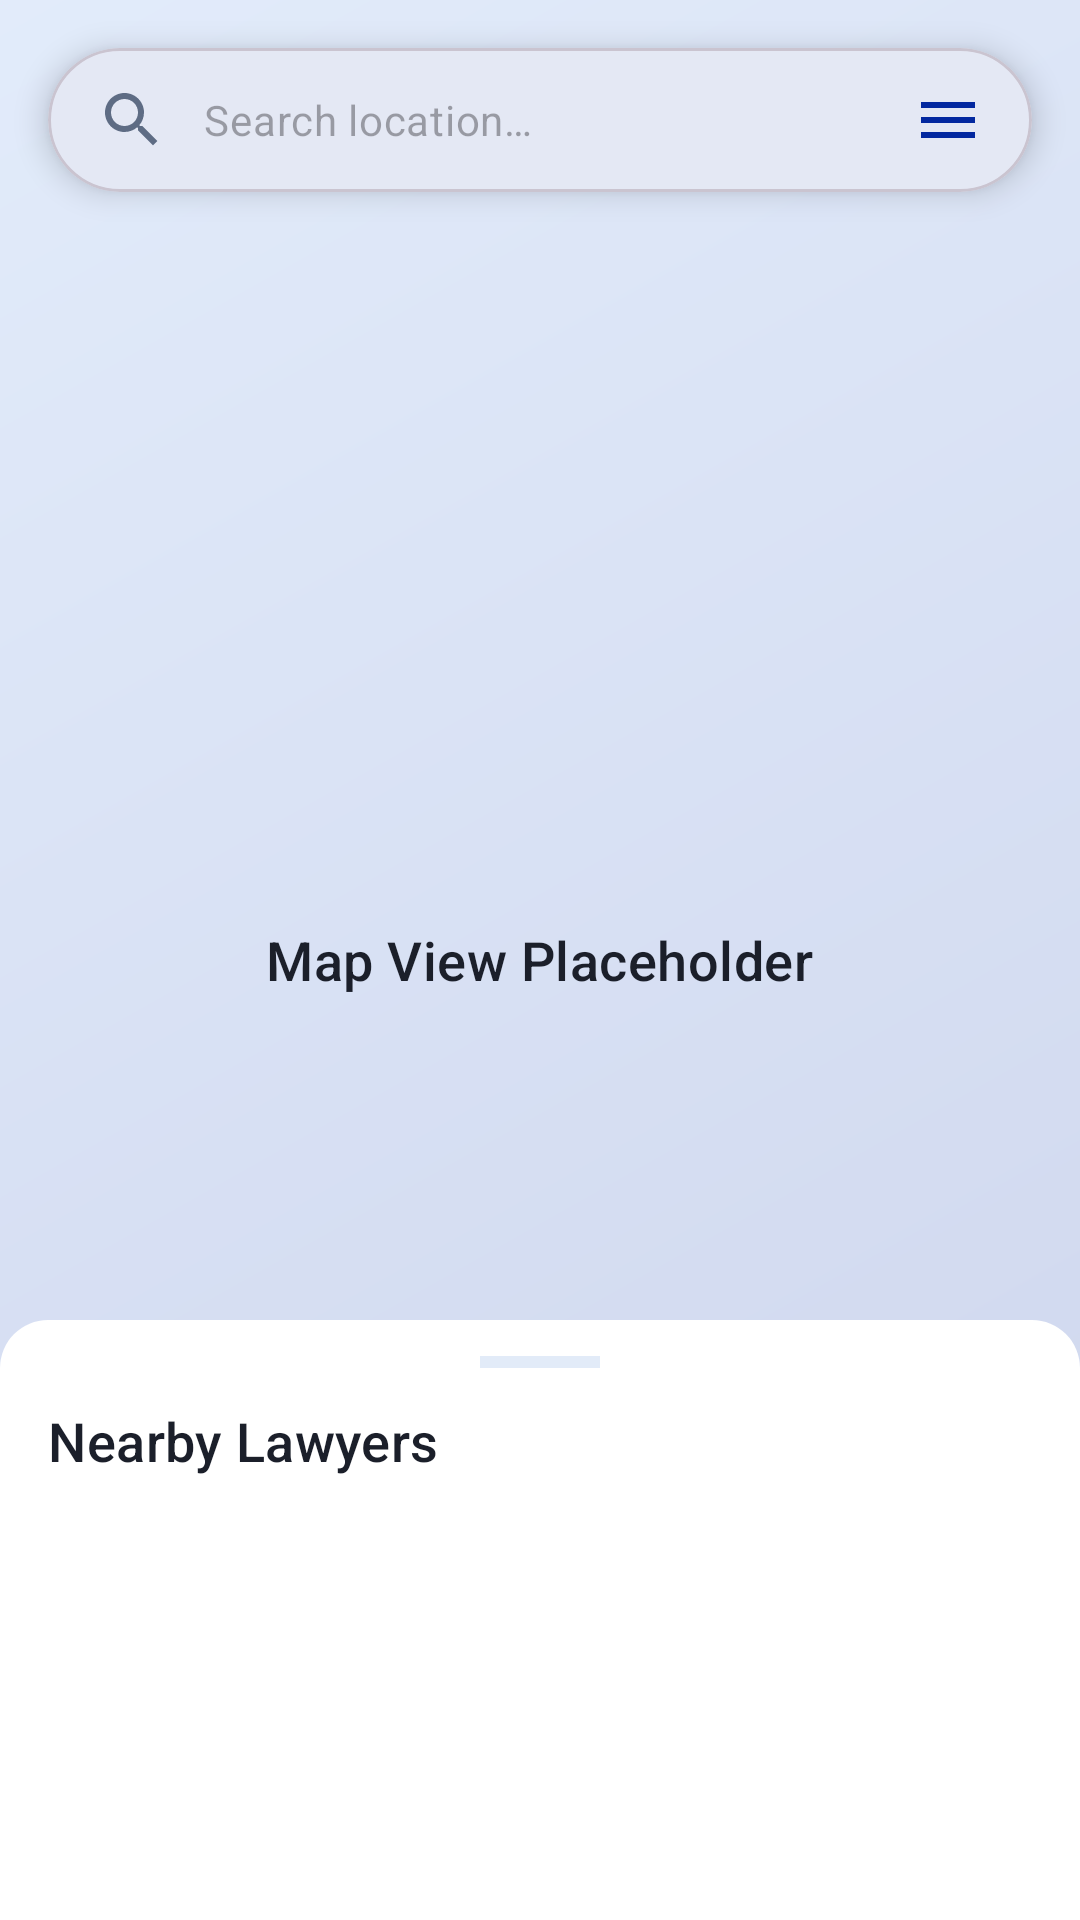

Where to tap for icons on this 1080 × 1920 app screen, as (x,y):
menu: (948,120)
